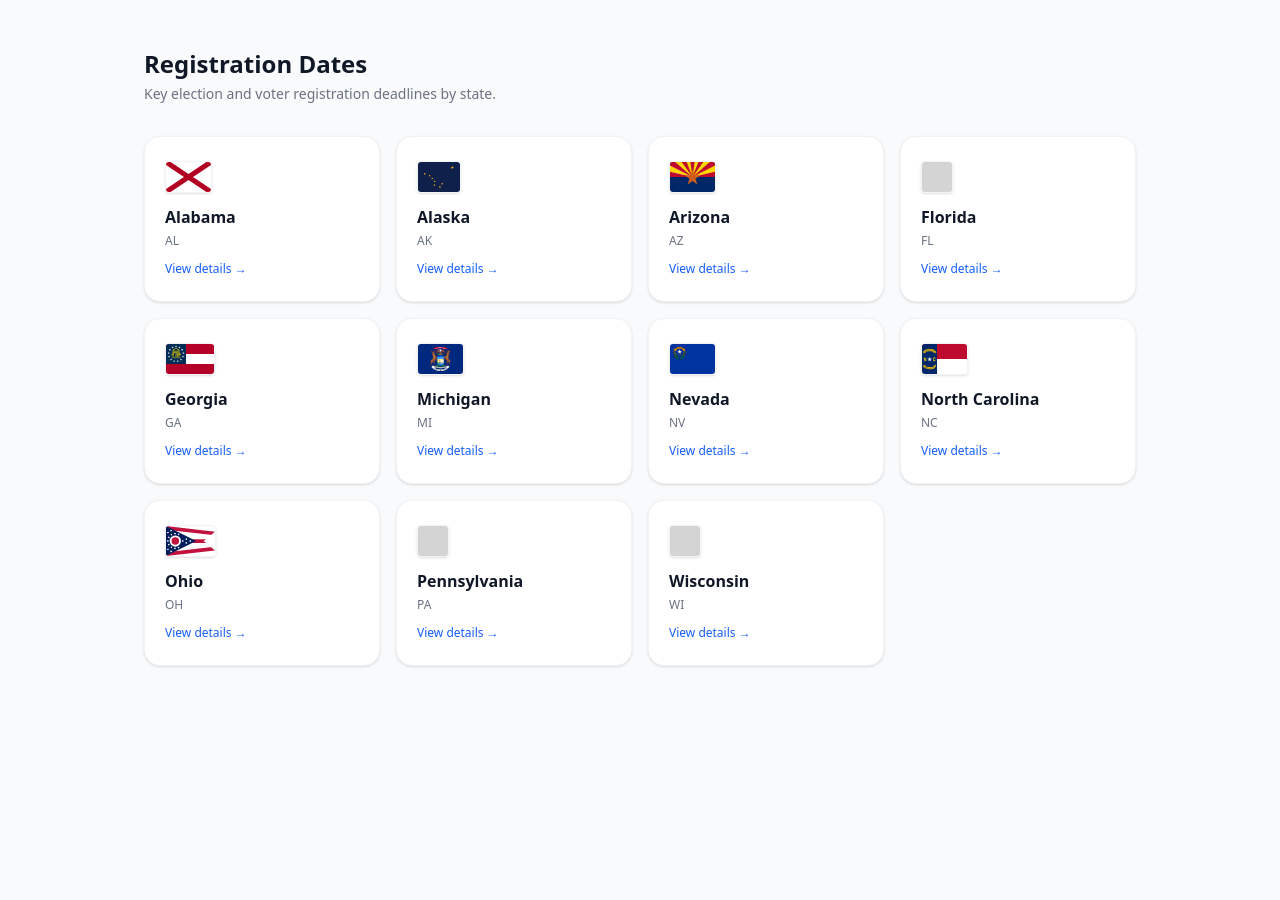
Test: RegistrationDatesPage › shows an error message when the fetch fails
Click the text "Alabama". click: (200, 217)
box: [165,206,236,228]
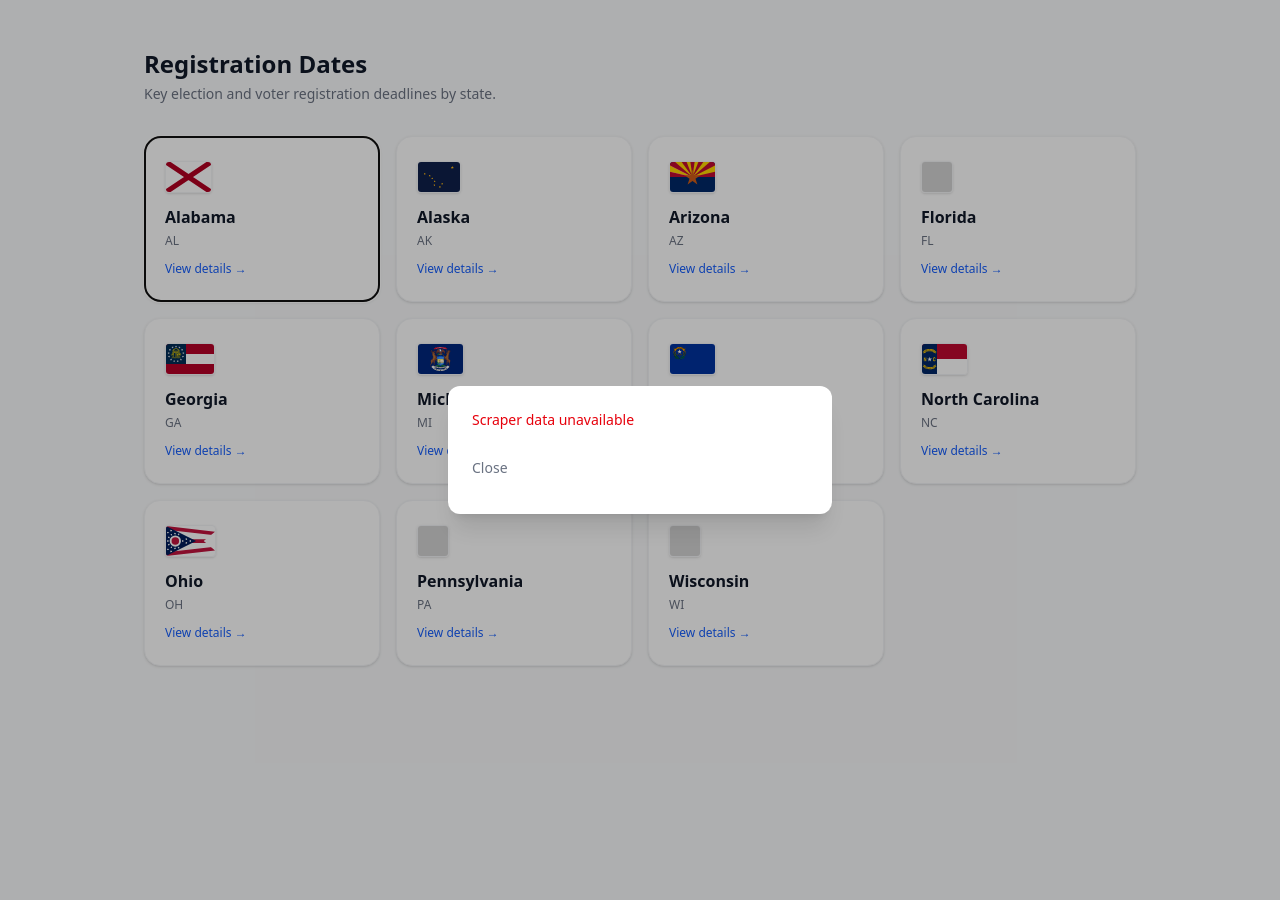
Expected: the text "Scraper data unavailable" is shown, [472,410,634,429]
